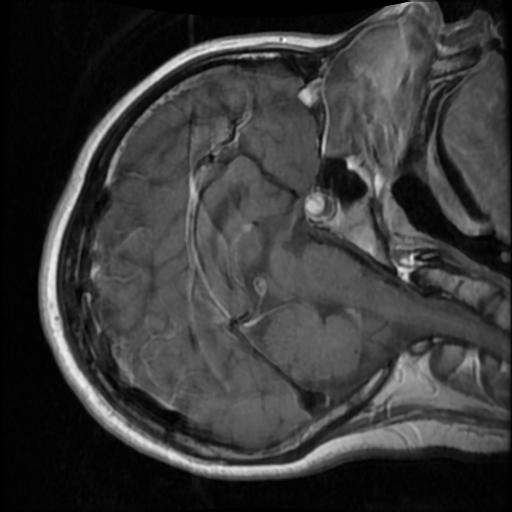pituitary tumour: (301, 194, 324, 216)
